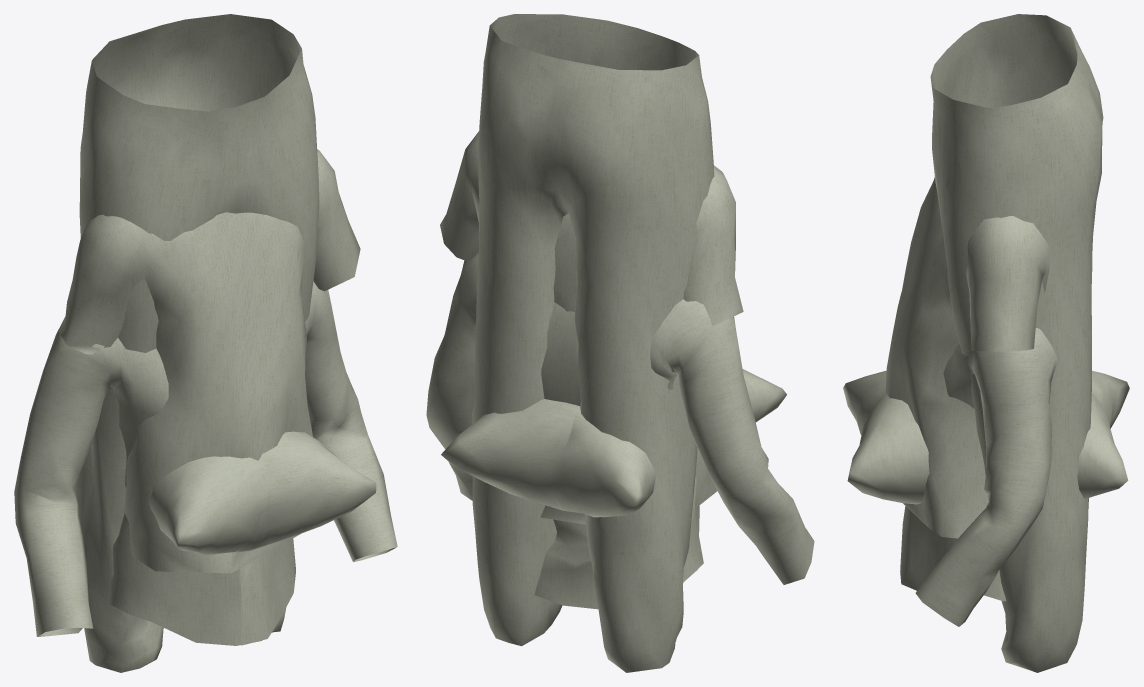
Rendered from Cloth.fbx.
3 views of the same model, side by side, from view 1: azimuth 30°, elevation 25°; view 2: azimuth 150°, elevation 25°; view 3: azimuth 270°, elevation 25° (orthographic). The views are drawn at different scales.
Parts seen in each view (by area): view 1: Pants, Tshirt, Shirt, Pillow; view 2: Pants, Shirt, Pillow, Tshirt; view 3: Pants, Tshirt, Shirt, Pillow.
Part boxes in pixels (x1,y1,x2,y2): Pants: (74, 14, 319, 672); Tshirt: (58, 149, 360, 573); Shirt: (14, 281, 397, 645); Pillow: (125, 431, 376, 555); Pants: (472, 14, 714, 672); Shirt: (426, 253, 814, 609); Pillow: (441, 369, 786, 517); Tshirt: (440, 131, 743, 524); Pants: (930, 14, 1103, 672); Tshirt: (885, 177, 1049, 538); Shirt: (900, 328, 1057, 626); Pillow: (843, 370, 1129, 504).
Size of the model in its own units: 0.6825 by 1.12 by 0.5002.
